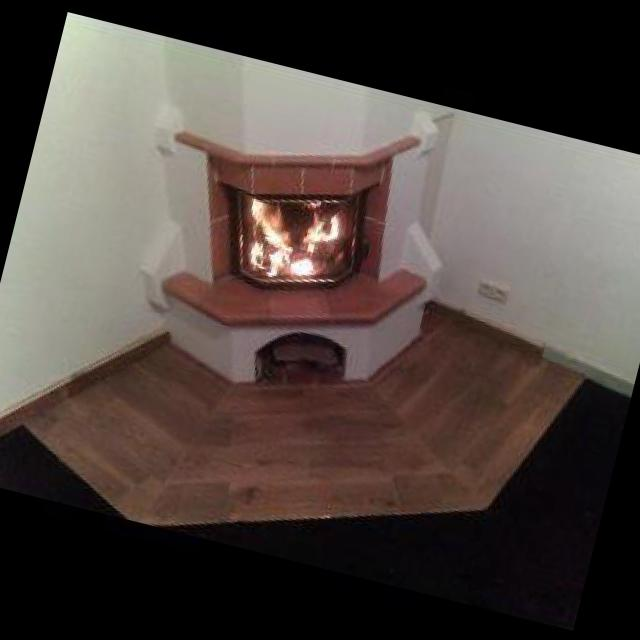Fire: (234, 182, 342, 284)
